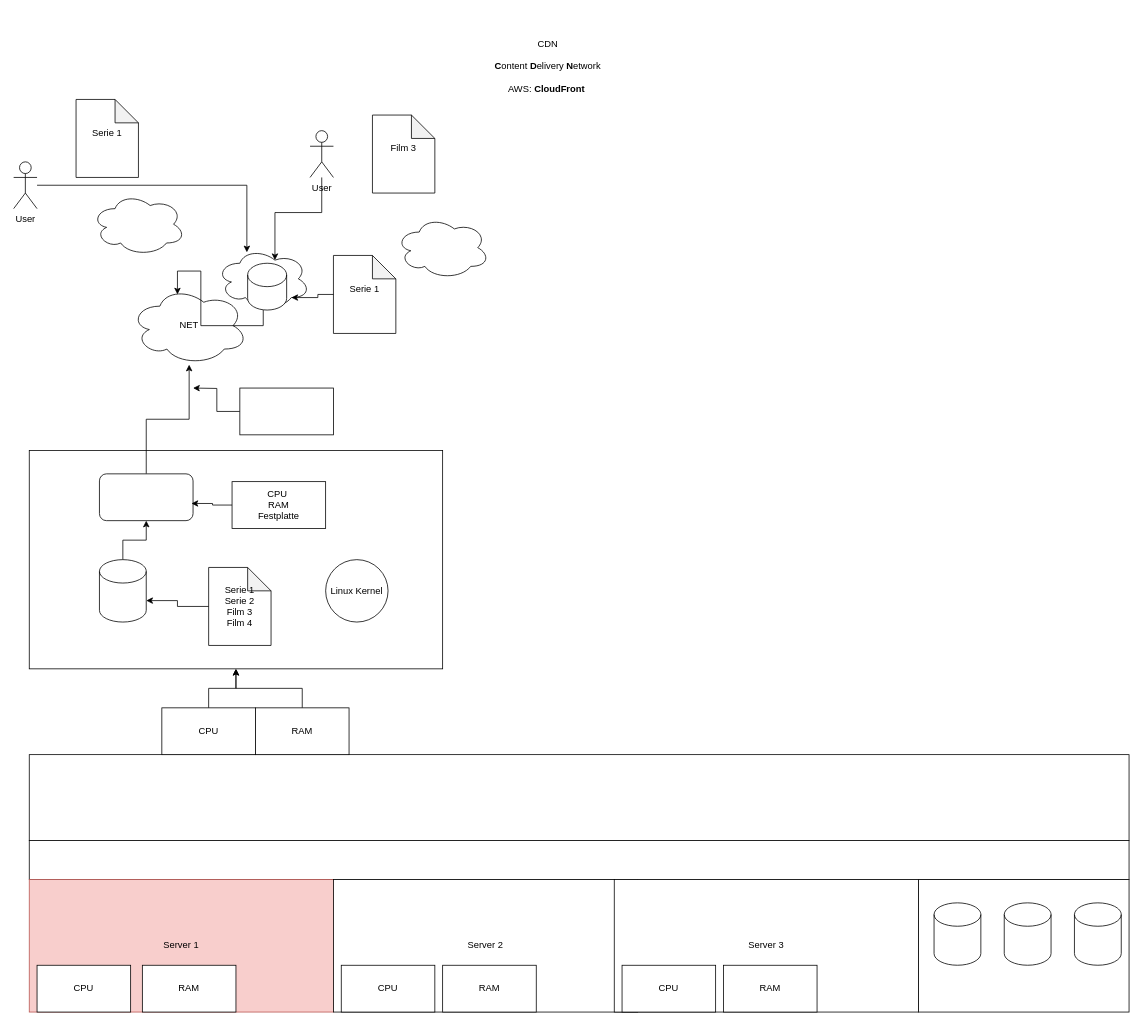
Image size: 1143x1026. Some labels were removed from this diagram. Each missing label, with the box of its shape:
CDN: (247, 262, 287, 310)
Hardware: (28, 840, 1129, 879)
Hypervisor Virtualbox / Parallels / Multipass VMWare /: (28, 754, 1129, 840)
Server A: (99, 473, 193, 521)
Traffic Mbit / sec GBit /: (239, 387, 333, 435)
VM: (28, 450, 443, 669)
